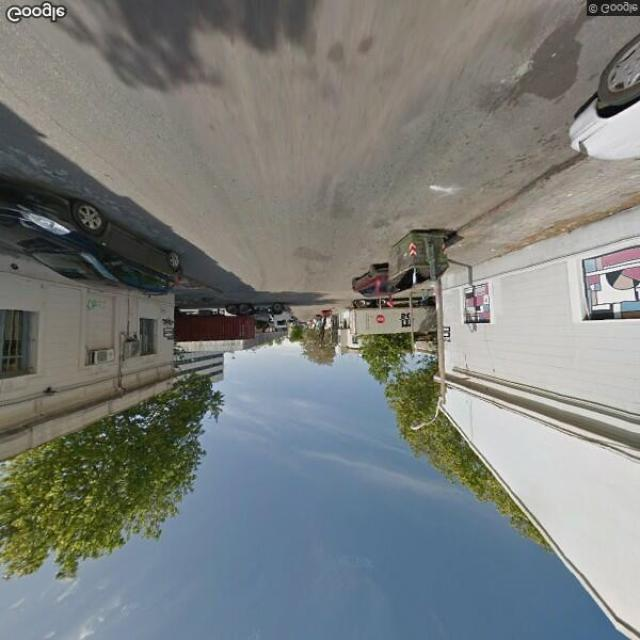garbage container: (384, 221, 462, 294)
